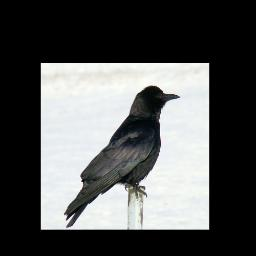Crow: (63, 85, 182, 229)
